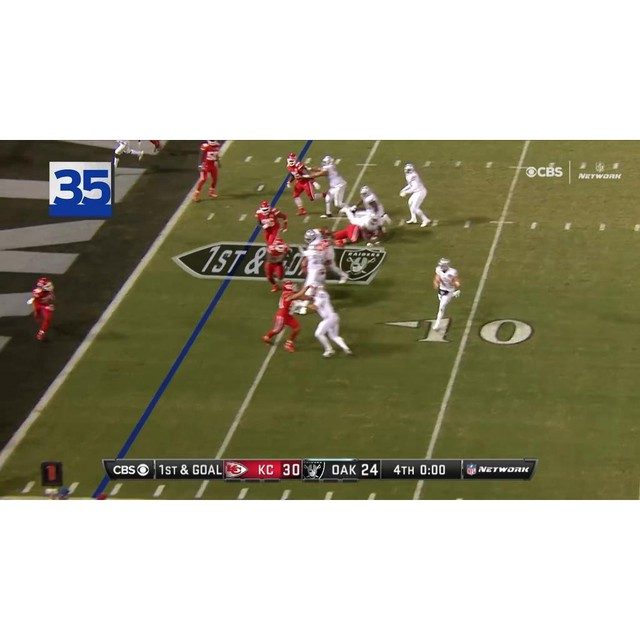american-football-player: (304, 283, 353, 359), (262, 280, 305, 352), (429, 256, 462, 340), (305, 227, 349, 284), (312, 155, 351, 218), (399, 162, 433, 227), (284, 152, 318, 216), (26, 277, 57, 340), (260, 237, 291, 293), (194, 141, 222, 200), (254, 200, 286, 251), (301, 243, 328, 290)
